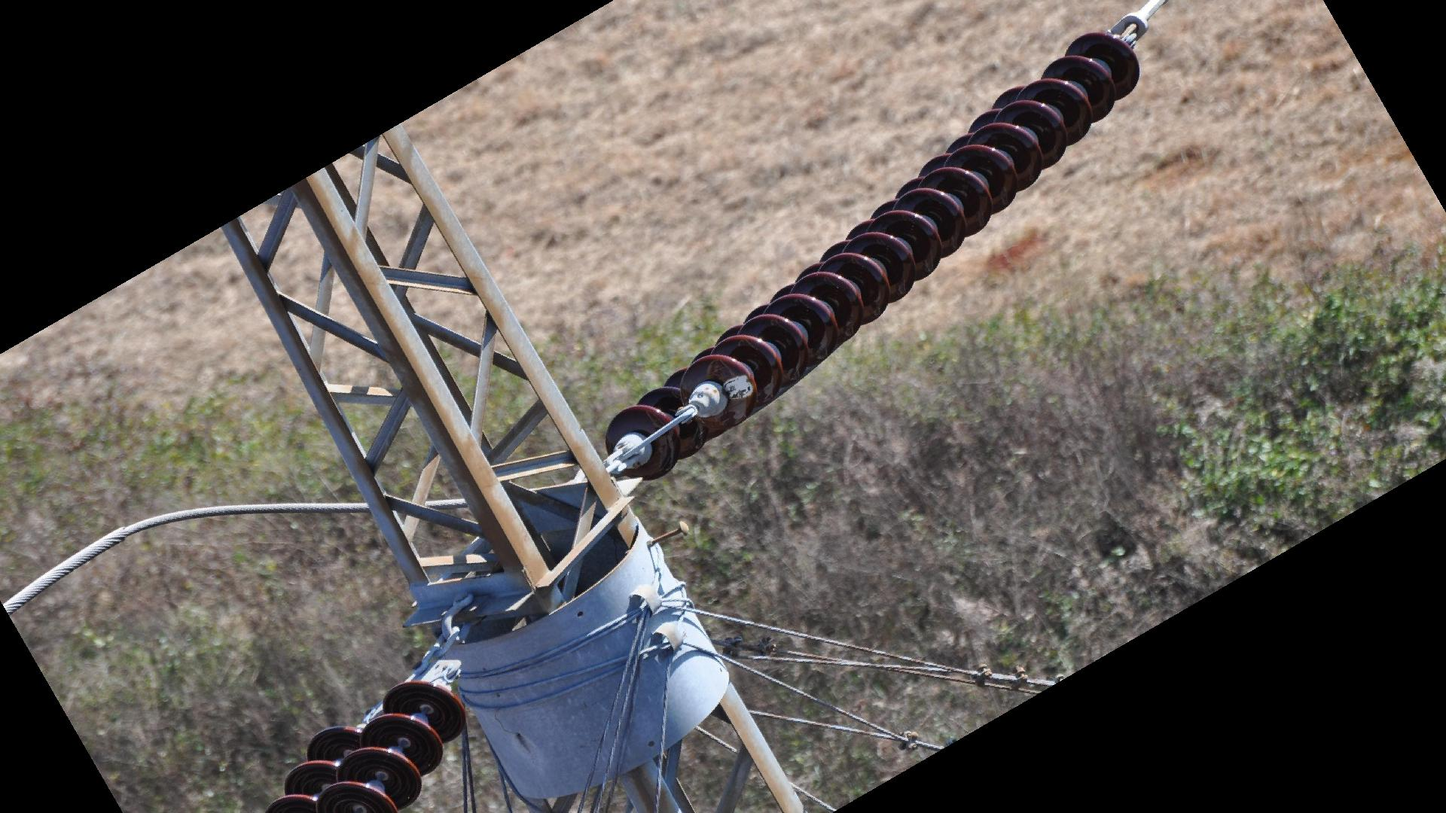insulator: (600, 28, 1146, 480), (261, 676, 471, 813)
insulator_flashover: (720, 371, 757, 403)
